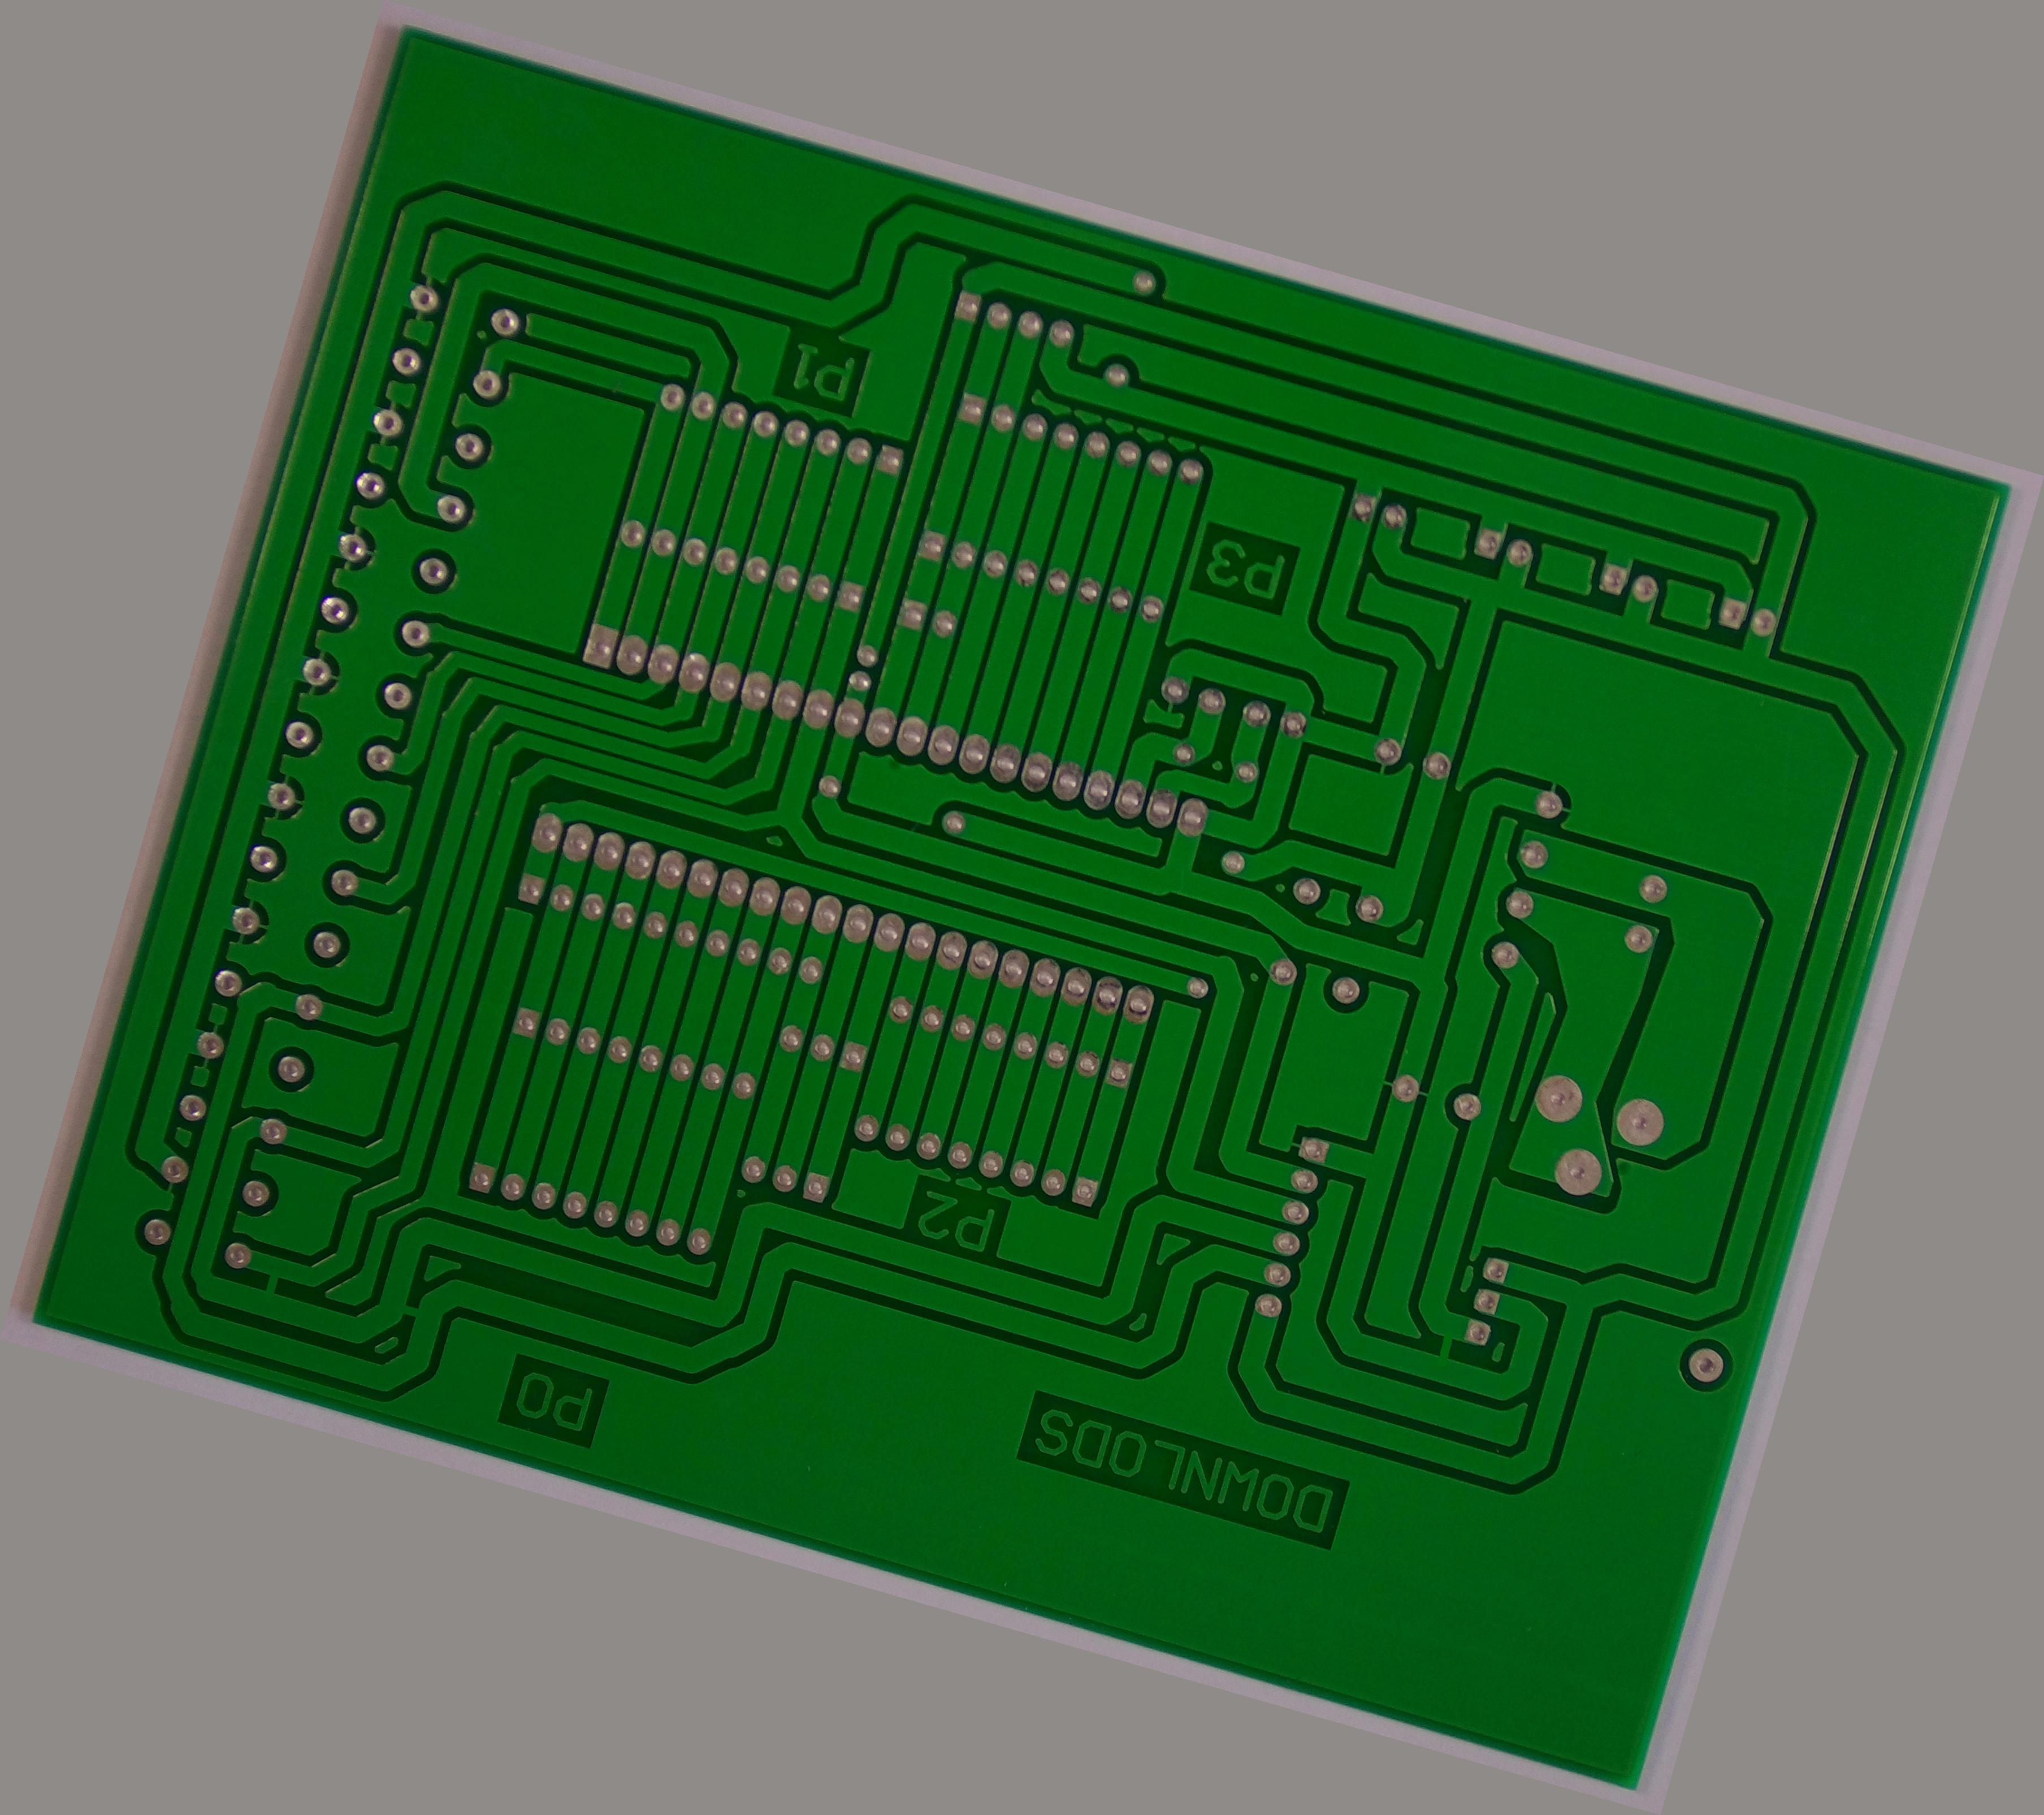short: (1405, 1296, 1489, 1384), (231, 1240, 307, 1319), (373, 1275, 441, 1344)
